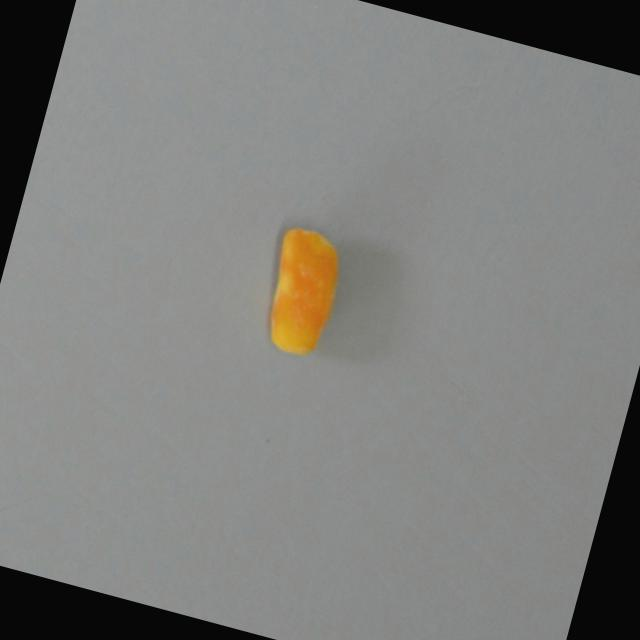dañado: (230, 203, 377, 372)
